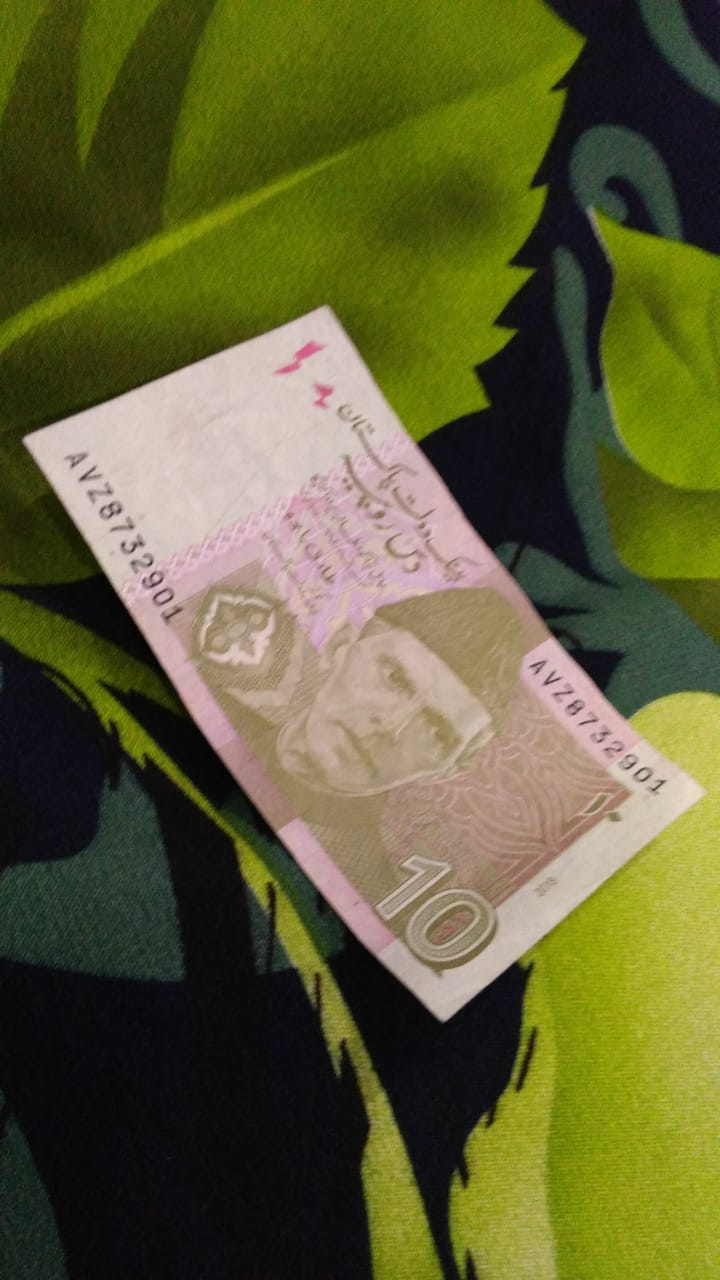10 rupee: (30, 310, 700, 994)
